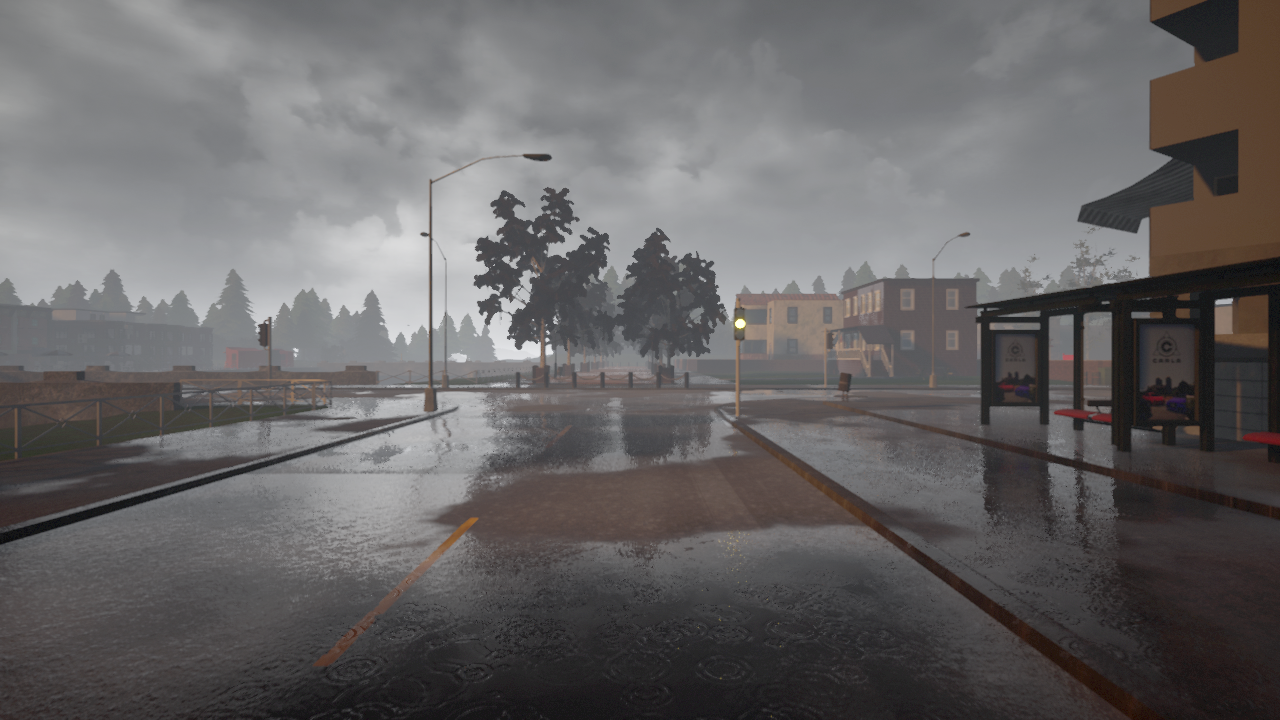yellow: (733, 306, 747, 342)
